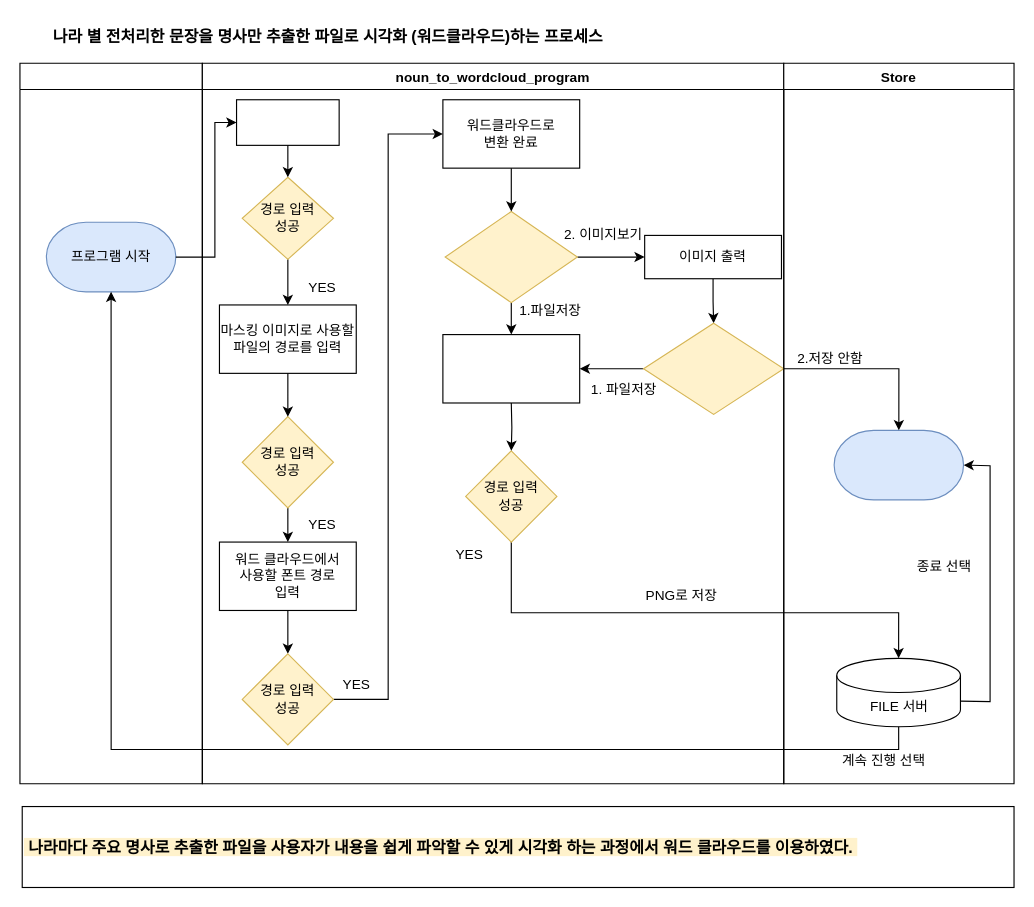
Some shapes in this 1034 by 907 pixel diagram are drawn without their labels. The shapes that lost their labels are listed below. From the top down, each one's box as (x1, y1, x2, y2) in pixels, then its label:
(235, 99, 339, 145): 불러올 txt 파일 경로 입력
(444, 210, 577, 303): 1. 파일저장 or 2. 이미지보기
(442, 333, 580, 403): 이미지 파일을 저장할 경로 입력
(642, 322, 784, 414): 1.이미지 저장 or 2. 저장 안함
(19, 62, 202, 784): User
(833, 429, 964, 500): 프로그램 종료
